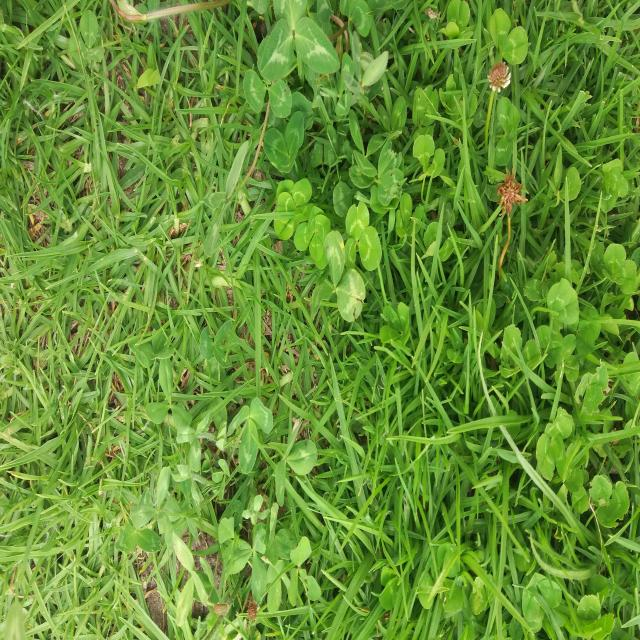Four Leaf Clover: (294, 206, 330, 270)
